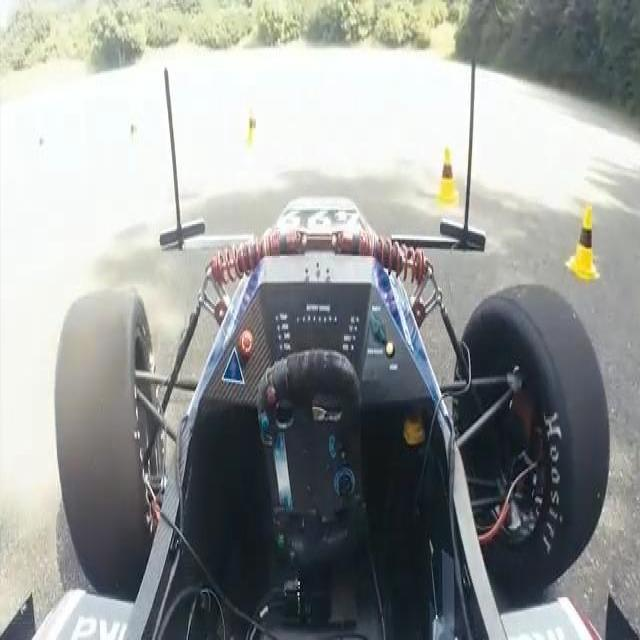yellow_cone: (565, 204, 601, 280), (436, 146, 461, 207)
